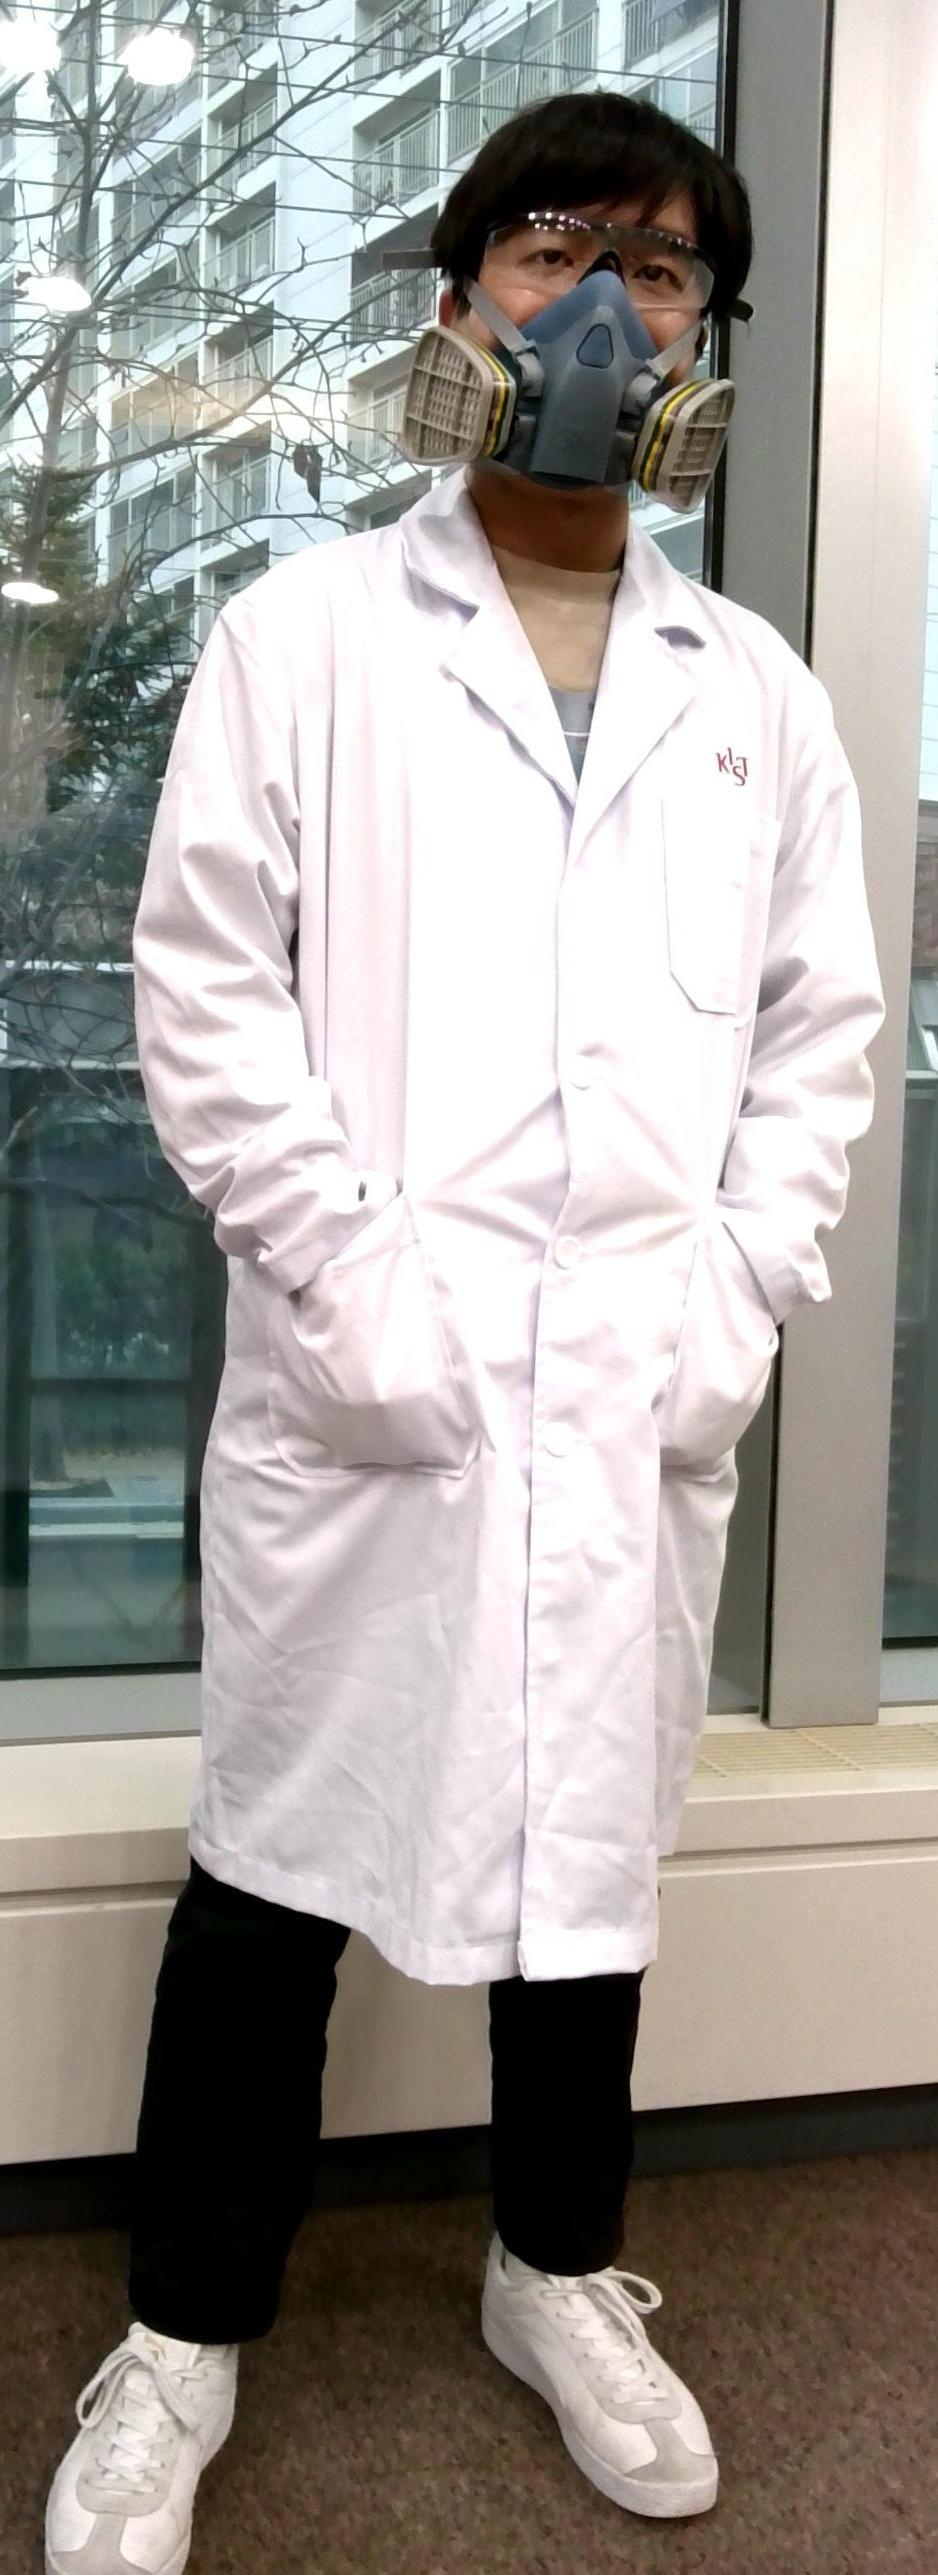lab_coat: (136, 562, 867, 2074)
